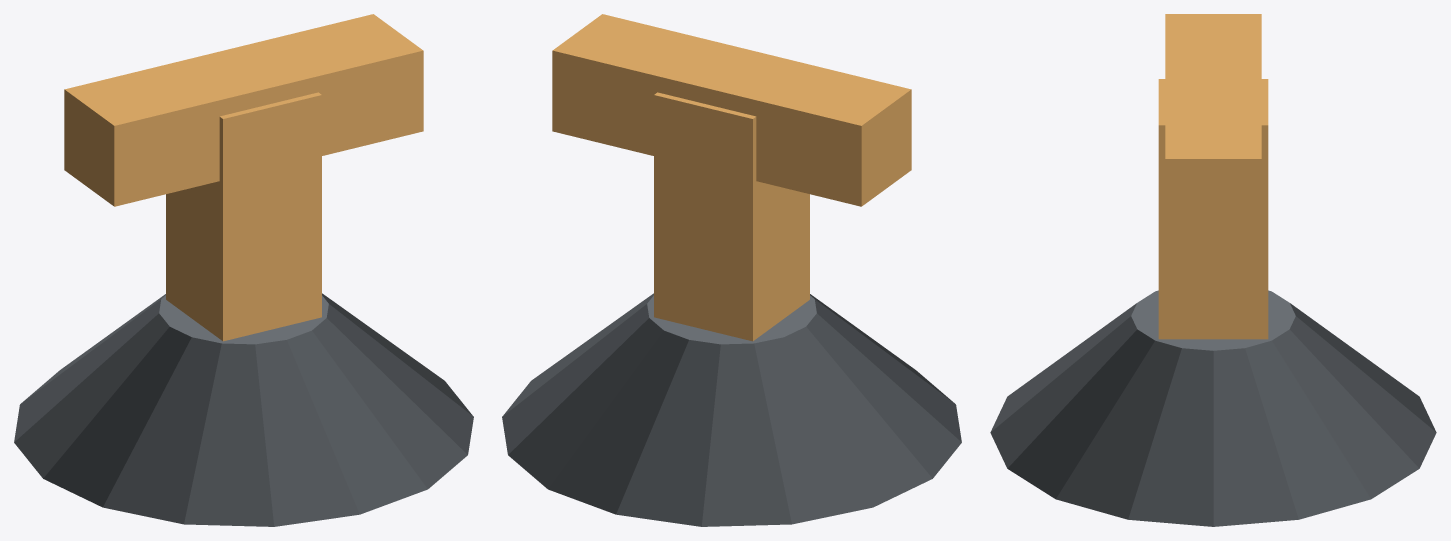
Rendered from suction_cup_handle.glb.
3 views of the same model, side by side, from view 1: azimuth 30°, elevation 25°; view 2: azimuth 150°, elevation 25°; view 3: azimuth 270°, elevation 25° (orthographic). The views are drawn at different scales.
Visible parts, largest first — view 1: ErgonomicGrip, HousingAccent; view 2: ErgonomicGrip, HousingAccent; view 3: ErgonomicGrip, HousingAccent.
Boxes of the visible parts, left/top/right/bottom form: ErgonomicGrip: left=14, top=293, right=473, bottom=526; HousingAccent: left=64, top=14, right=423, bottom=341; ErgonomicGrip: left=502, top=293, right=961, bottom=526; HousingAccent: left=552, top=14, right=911, bottom=341; ErgonomicGrip: left=990, top=290, right=1436, bottom=526; HousingAccent: left=1158, top=14, right=1268, bottom=339.
Size of the model in its own units: 0.26 by 0.2225 by 0.26.
